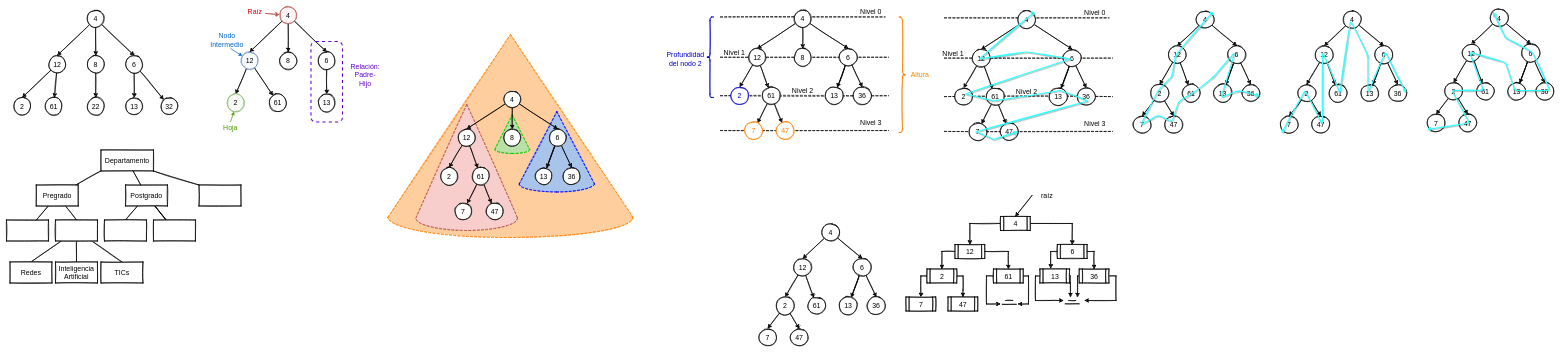
The diagram is 1562 pixels wide and 352 high, and some of its shapes have lost their labels. The shapes that lost their labels are listed below. From the top down, each one's centre as x and y in pixels, then its label:
(x=219, y=195): I+D+I
(x=27, y=230): Licenciatura
(x=76, y=230): Especialidad
(x=125, y=230): Magíster
(x=174, y=230): Doctorado
